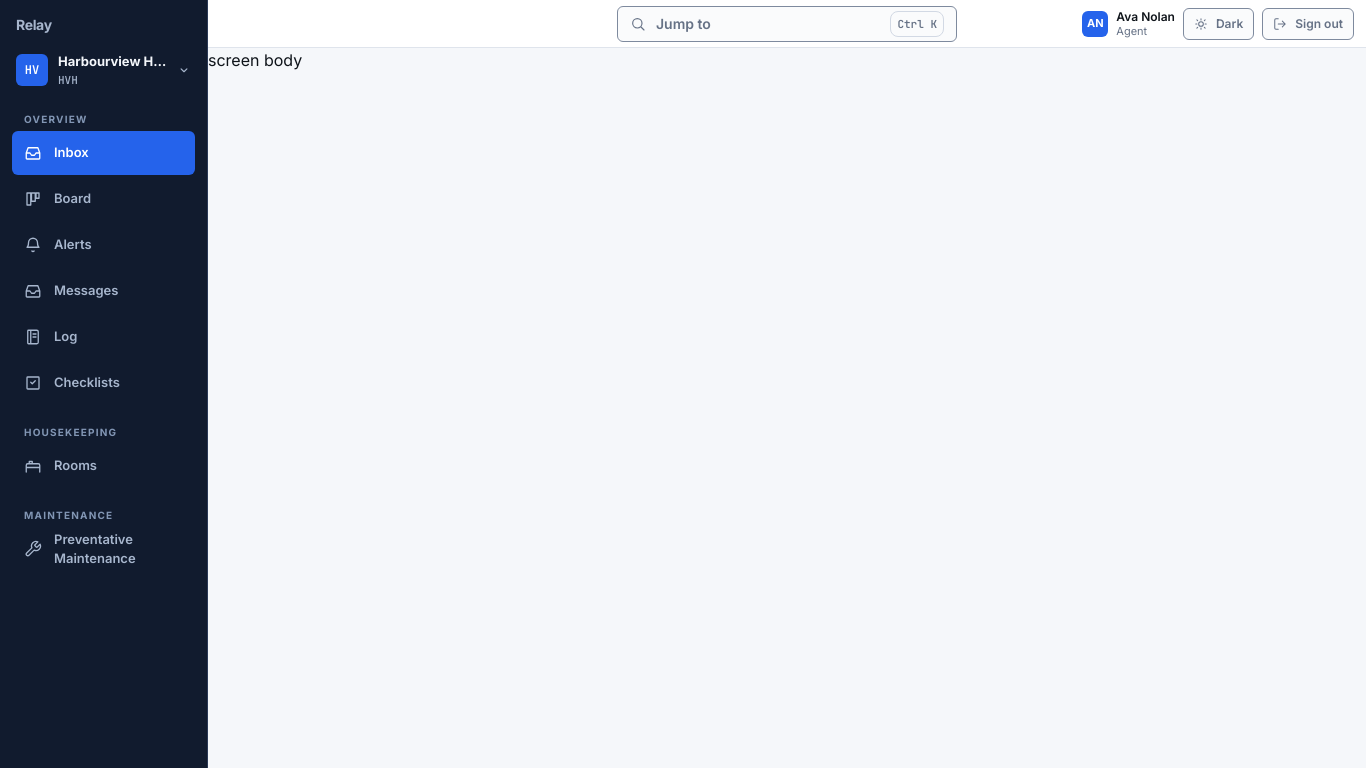
Test: AppShell › offers a property switcher when the user has two memberships
Step 1. Click the button named "switch property" → [104, 70], box [12,48,195,92]
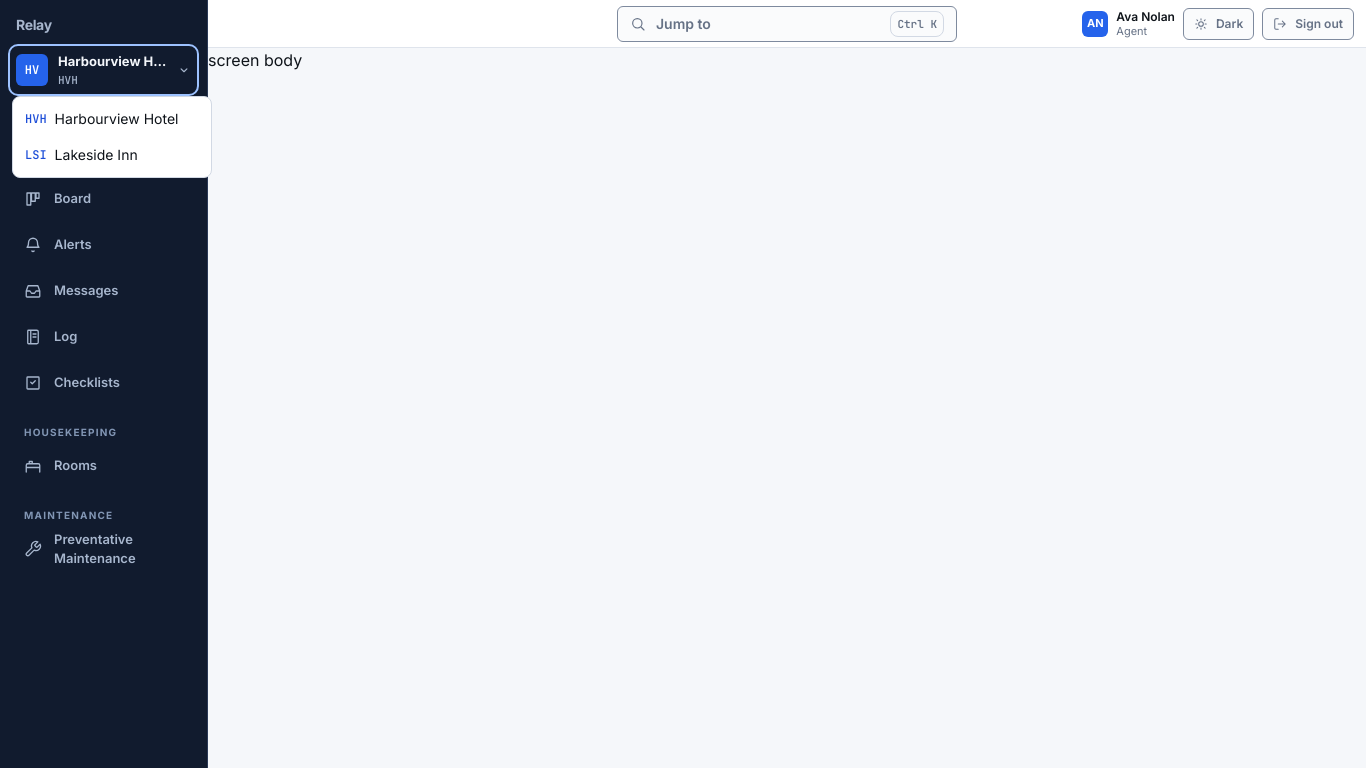
Expected: the menu item "LSI Lakeside Inn" is shown, [13,137,211,173]
